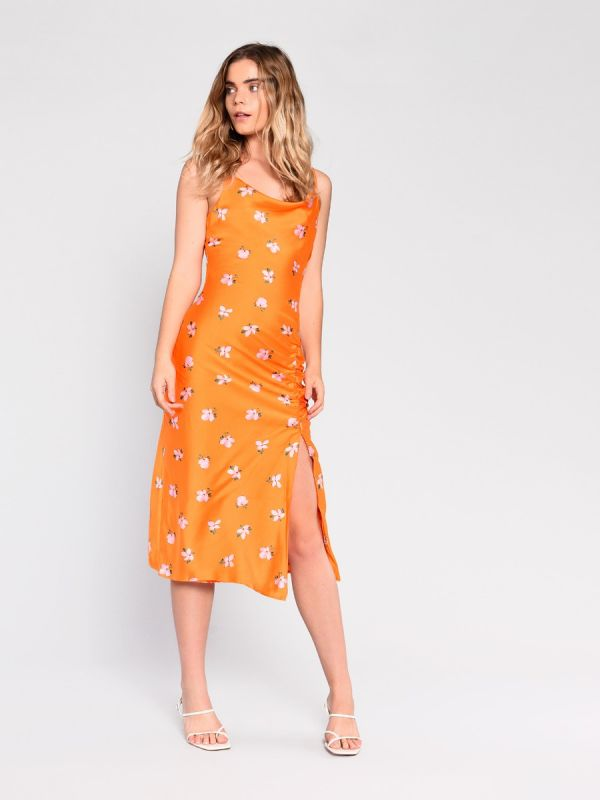C_dress: (160, 155, 327, 591)
